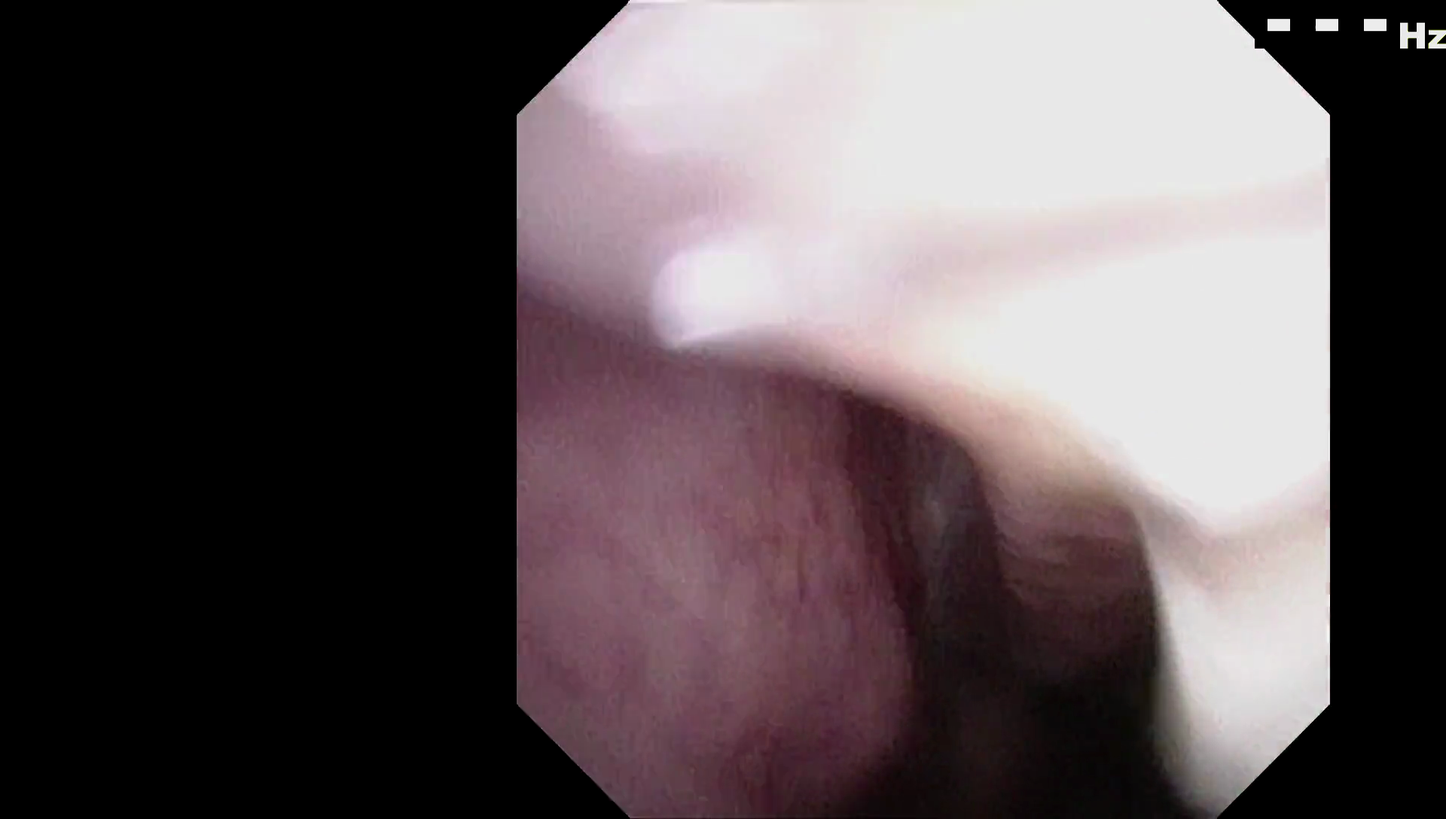next: (821, 541, 1192, 818)
